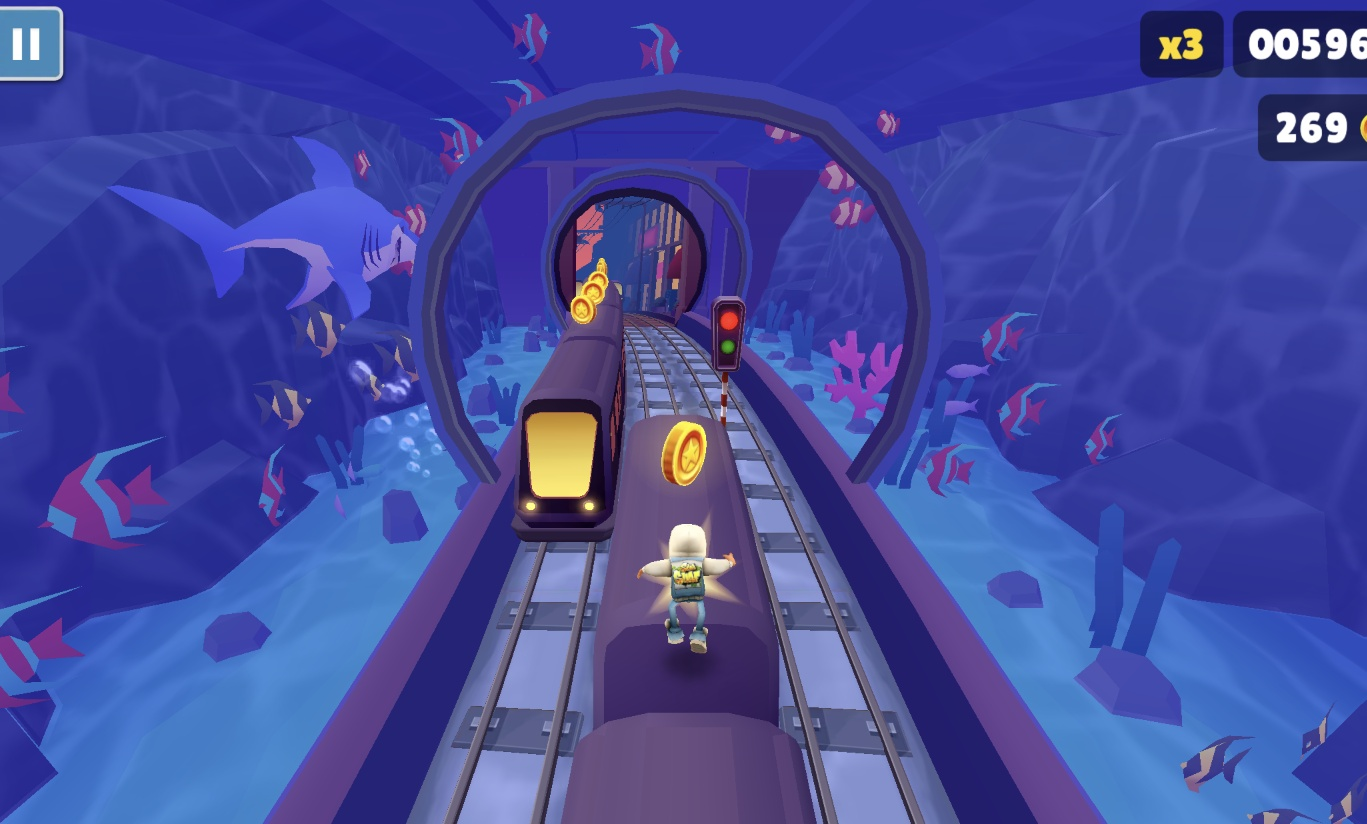train: (560, 414, 817, 824), (509, 285, 629, 545)
